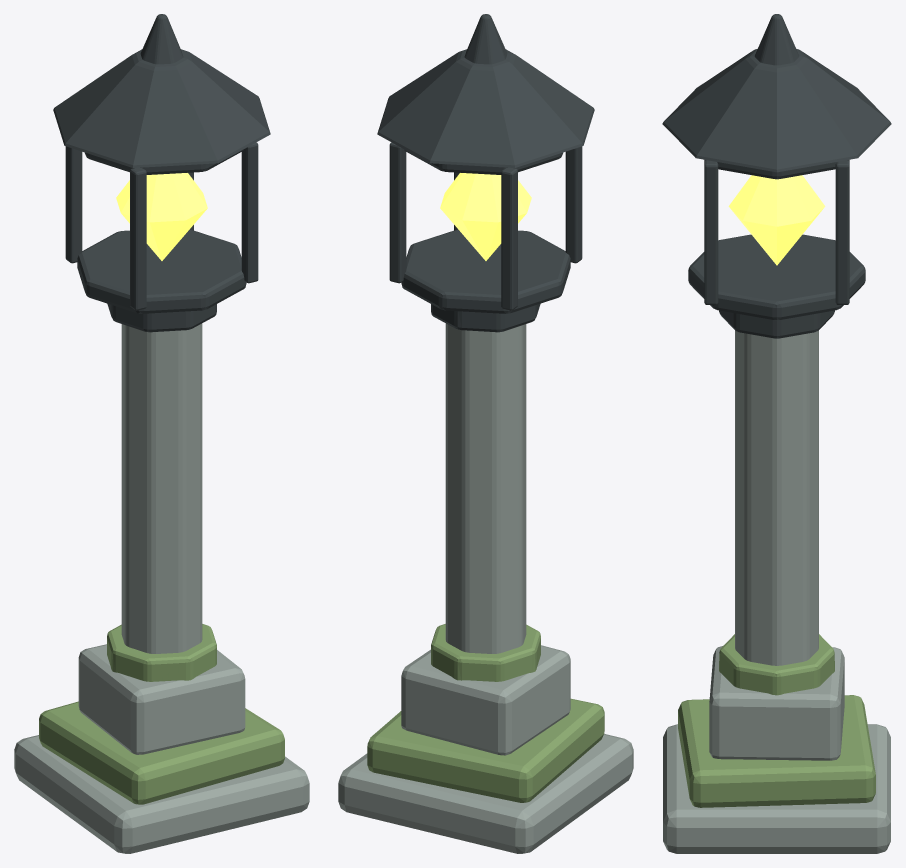
The model's file is SM_EmbermereEmberLamp_01.fbx.
3 renders of one model, left to right at view 1: azimuth 30°, elevation 25°; view 2: azimuth 150°, elevation 25°; view 3: azimuth 270°, elevation 25°, orthographic.
Parts seen in each view (by area): view 1: SM_EmbermereEmberLamp_01; view 2: SM_EmbermereEmberLamp_01; view 3: SM_EmbermereEmberLamp_01.
Boxes of the visible parts, bbox=[...] form: SM_EmbermereEmberLamp_01: bbox=[14, 14, 309, 853]; SM_EmbermereEmberLamp_01: bbox=[338, 14, 633, 853]; SM_EmbermereEmberLamp_01: bbox=[662, 14, 891, 853].
Size of what is drawn, in the model's own units: 66.35 by 66.35 by 254.
